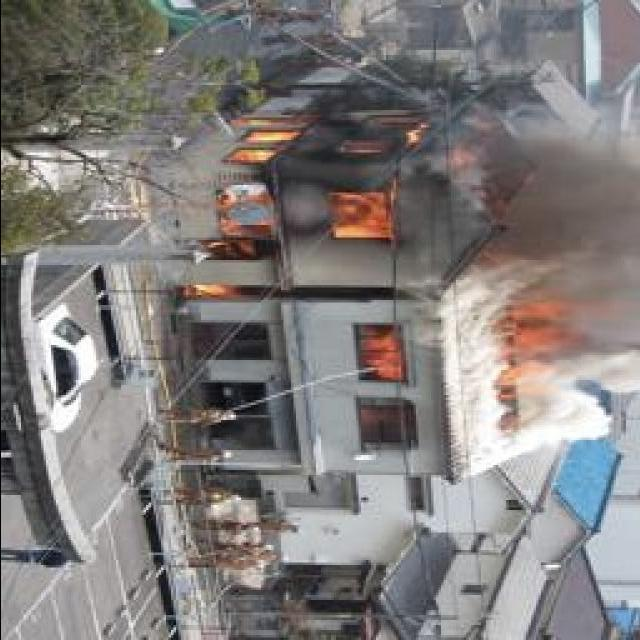Fire: (192, 97, 466, 300), (498, 284, 598, 442), (350, 329, 406, 391)
